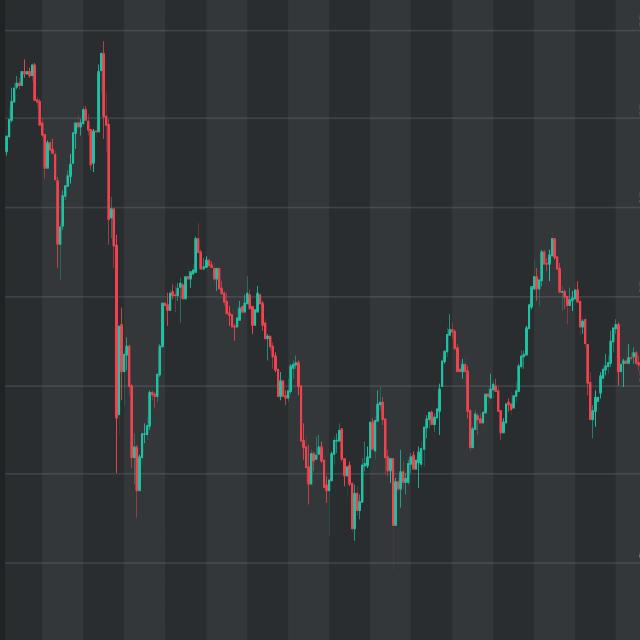Resistance-Emerging: (517, 222, 640, 444), (3, 31, 107, 264)
Resistance-breakout: (356, 298, 474, 534)
